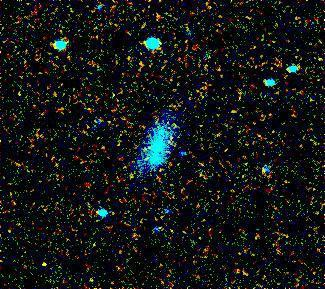star: (30, 249, 60, 279)
